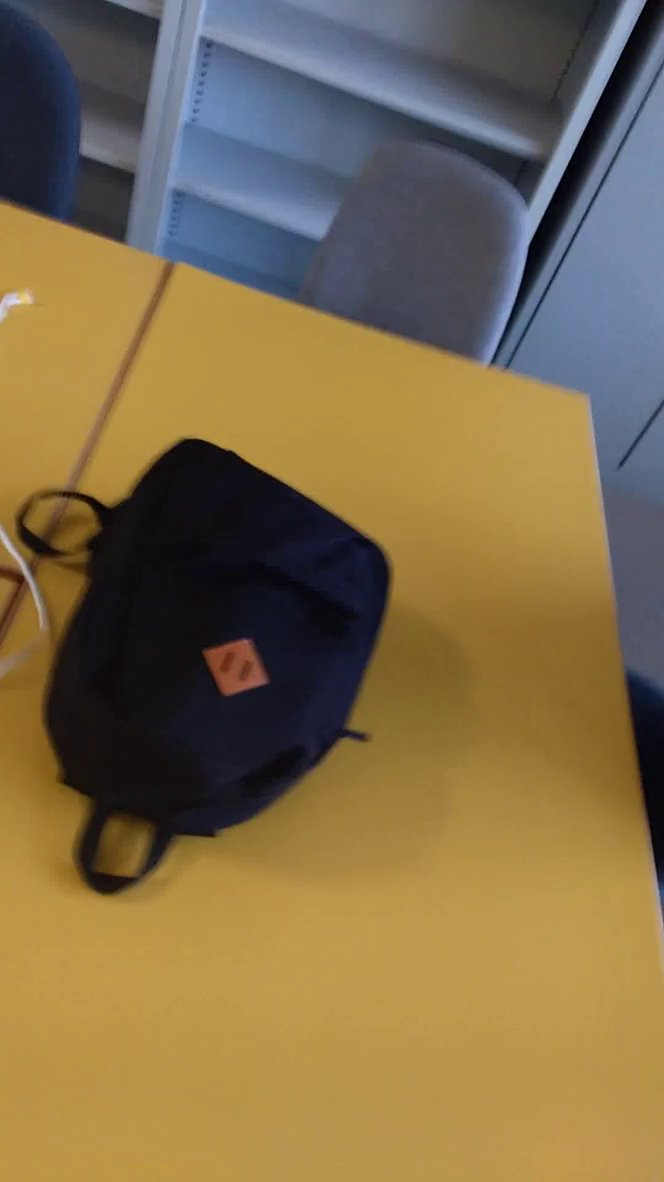bag: (1, 400, 402, 909)
chair: (264, 106, 557, 398)
